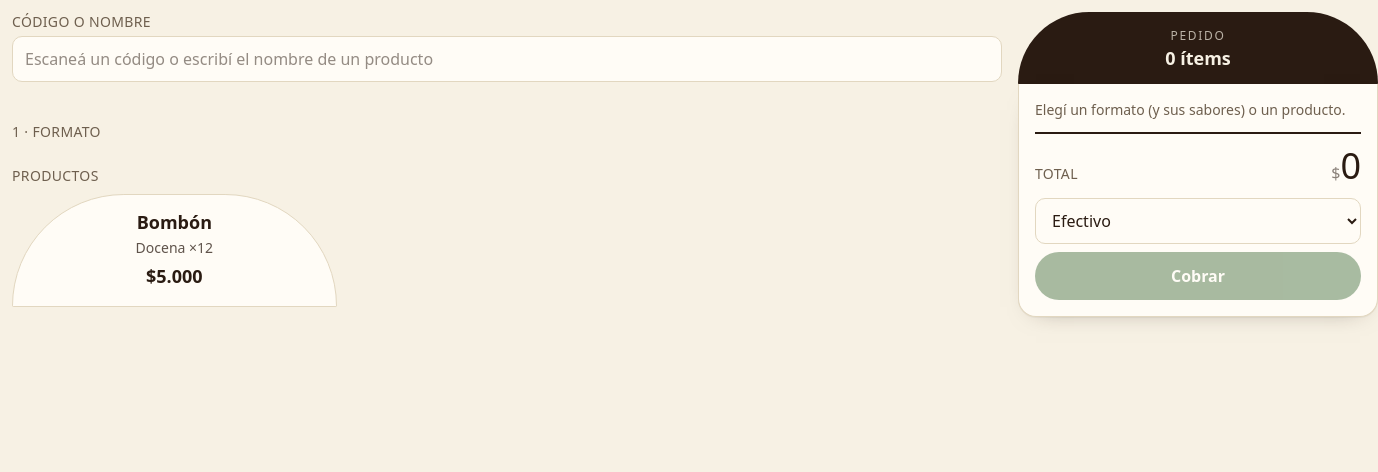
FormularioTicket: después de cobrar › la segunda venta también vacía el carrito y avisa su propio total
The image size is (1378, 472).
Click the button "Bombón Docena ×12 $5.000" at point(174, 250), box x1=12 y1=194 x2=337 y2=306
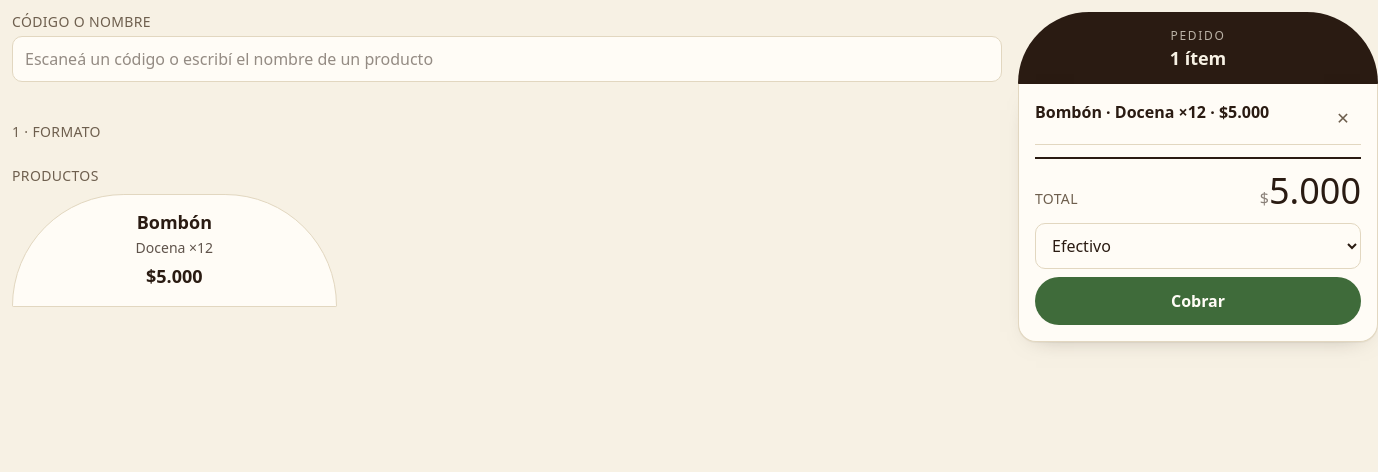
Submit the form "Cobrar", box x1=1035 y1=223 x2=1361 y2=325
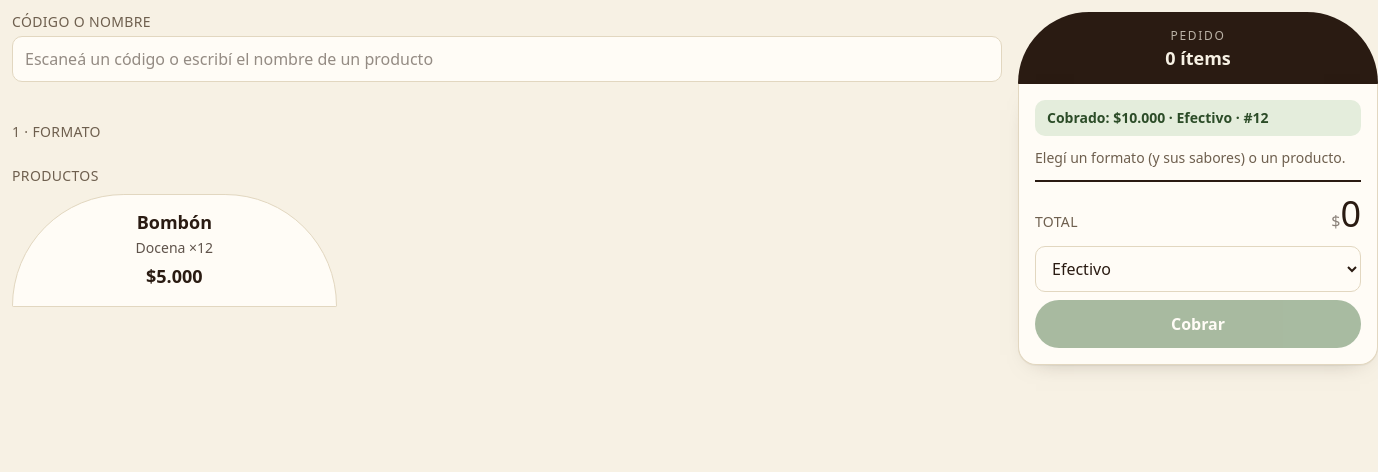
expect the heading "0 ítems" is shown: met, box x1=1165 y1=46 x2=1231 y2=70
Click the button "Bombón Docena ×12 $5.000" at point(174, 250), box x1=12 y1=194 x2=337 y2=306
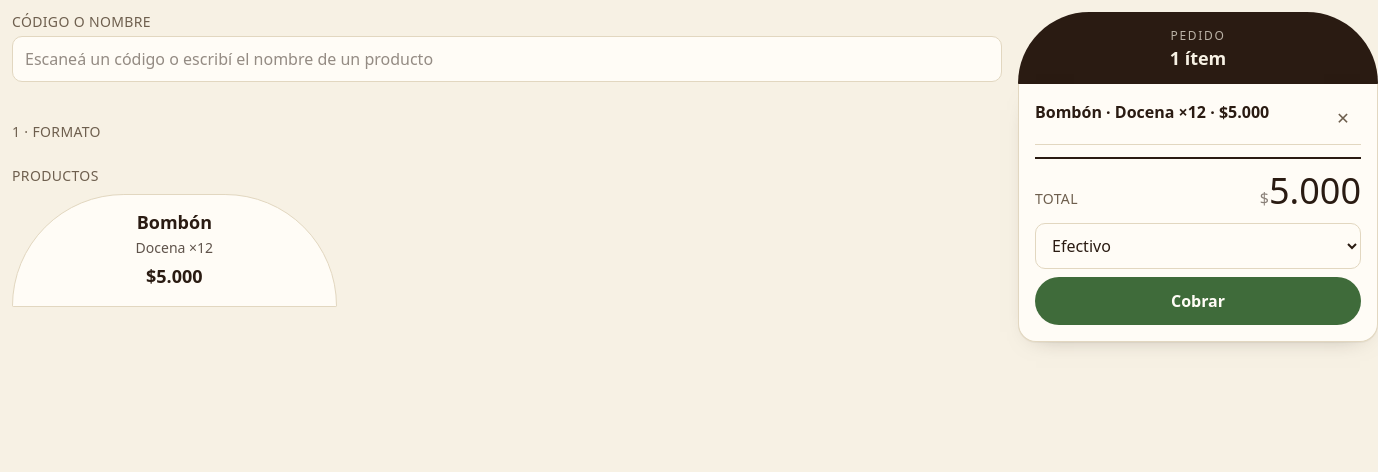
Click the button "Bombón Docena ×12 $5.000" at point(174, 250), box x1=12 y1=194 x2=337 y2=306
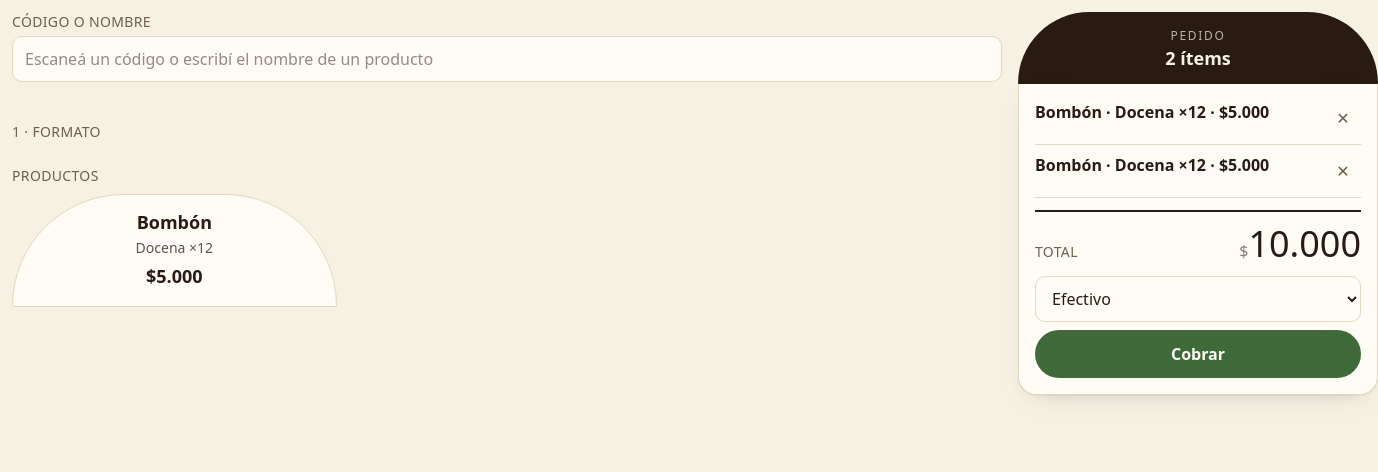
Click the button "Bombón Docena ×12 $5.000" at point(174, 250), box x1=12 y1=194 x2=337 y2=306
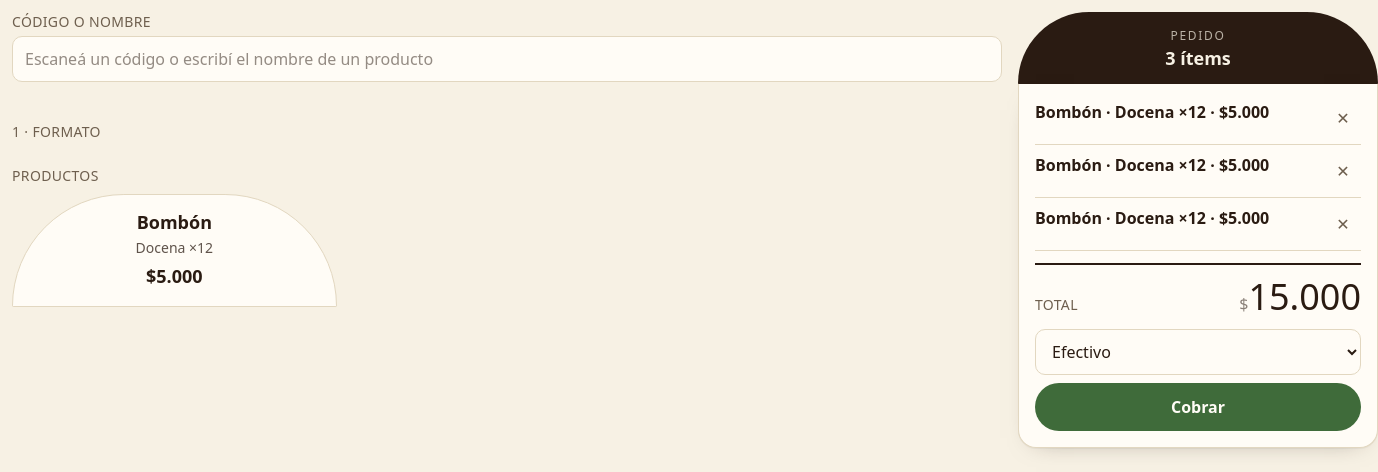
Submit the form "Cobrar", box x1=1035 y1=329 x2=1361 y2=431
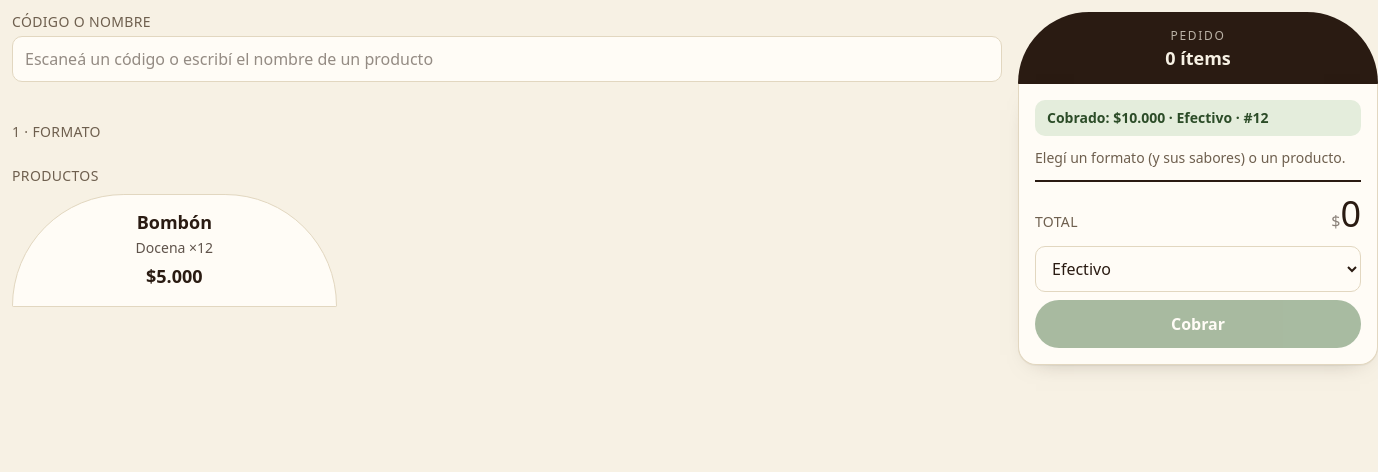
expect the heading "0 ítems" is shown: met, box x1=1165 y1=46 x2=1231 y2=70
expect the message reads "Cobrado: $10.000 · Efectivo · #12": met, box x1=1035 y1=100 x2=1361 y2=136
